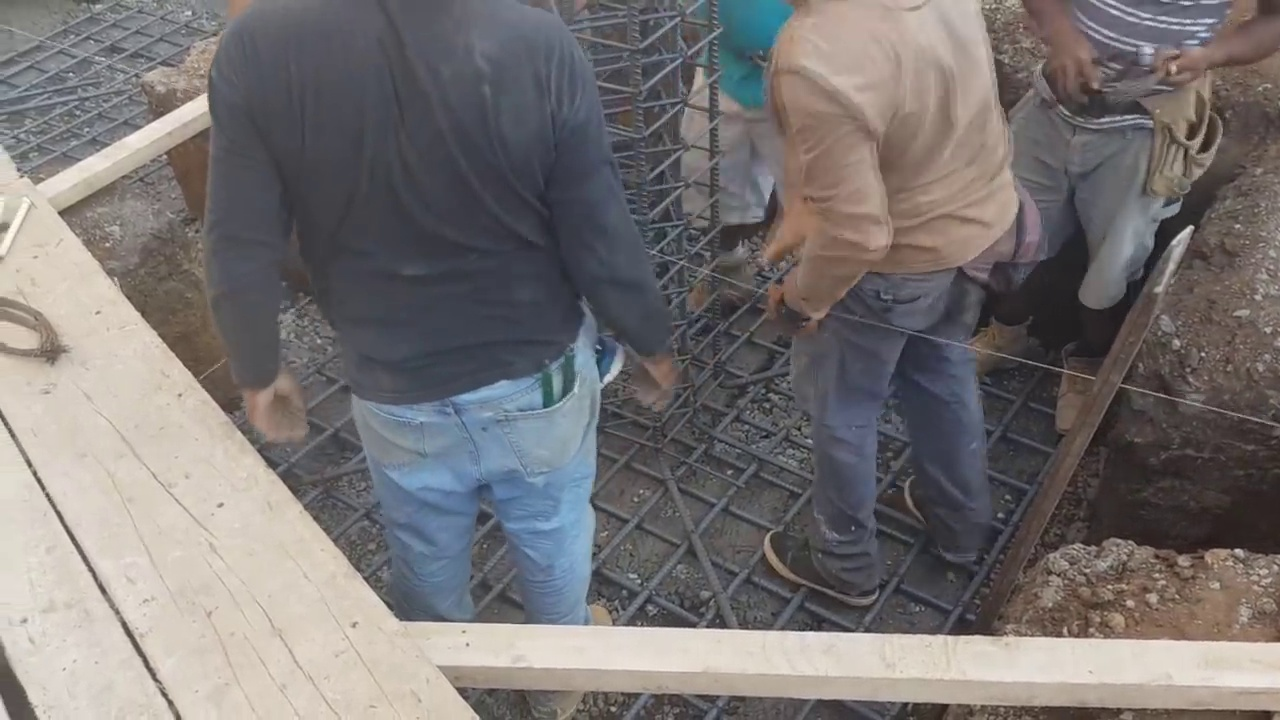person: (194, 11, 666, 646), (758, 2, 1017, 605), (1008, 0, 1276, 430), (669, 8, 790, 324)
